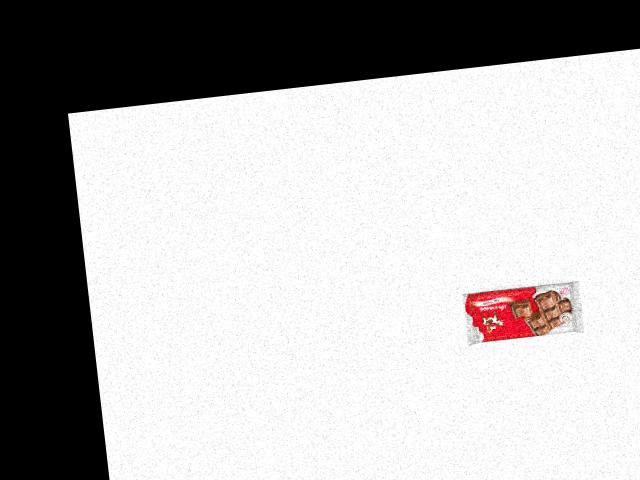chocolate: (460, 279, 588, 346)
